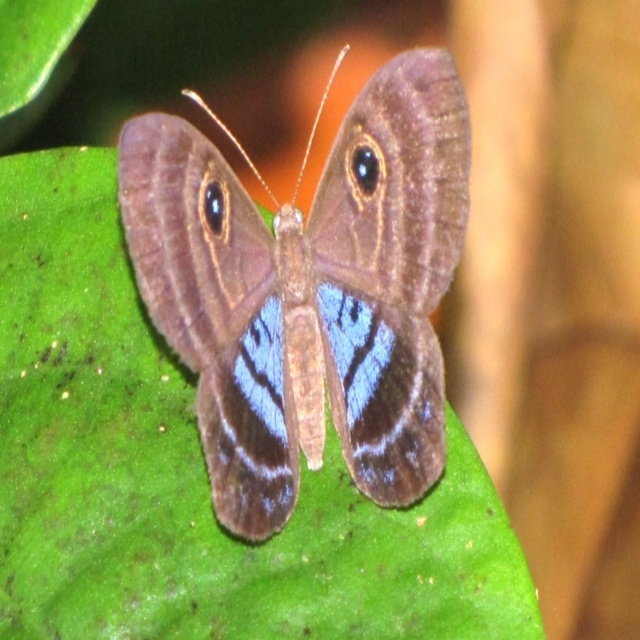Butterfly: (118, 43, 470, 544)
